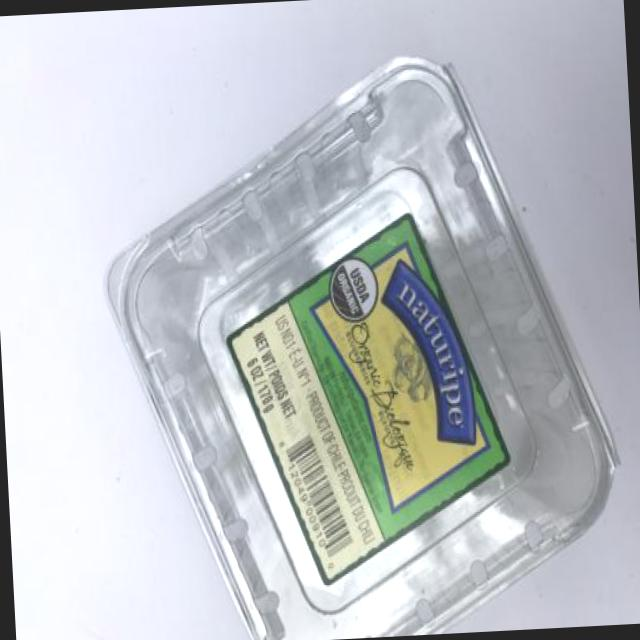Recycle: (92, 43, 629, 640)
